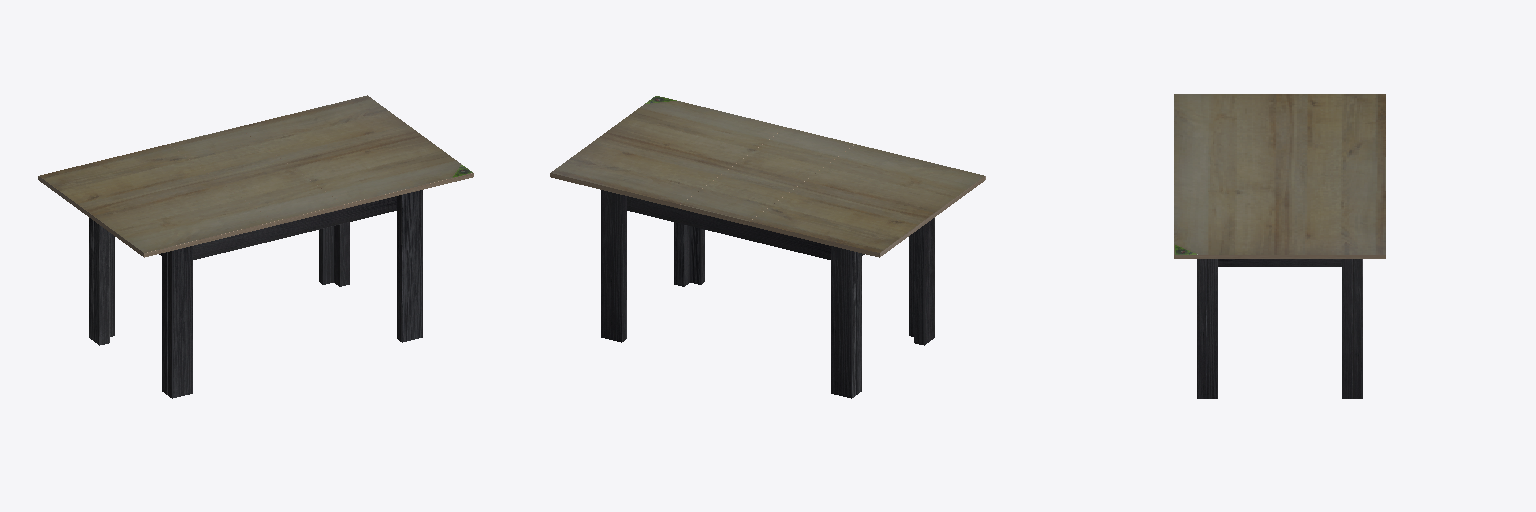
The picture shows the model from 3 angles: view 1: azimuth 30°, elevation 25°; view 2: azimuth 150°, elevation 25°; view 3: azimuth 270°, elevation 25°; orthographic projection.
Parts seen in each view (by area): view 1: solid_005, solid_004, solid_003; view 2: solid_005, solid_004, solid_003; view 3: solid_005, solid_004, solid_003.
Boxes of the visible parts, box(x1,y1,x2,y2) form: solid_005: box(39, 95, 470, 252); solid_004: box(89, 190, 422, 398); solid_003: box(38, 128, 473, 257); solid_005: box(551, 97, 984, 252); solid_004: box(601, 190, 934, 398); solid_003: box(550, 128, 985, 257); solid_005: box(1174, 94, 1385, 254); solid_004: box(1197, 259, 1362, 398); solid_003: box(1174, 255, 1385, 258).
Size of the model in its own units: 1.62 by 0.7664 by 0.9.
1 materials, 1 textured.